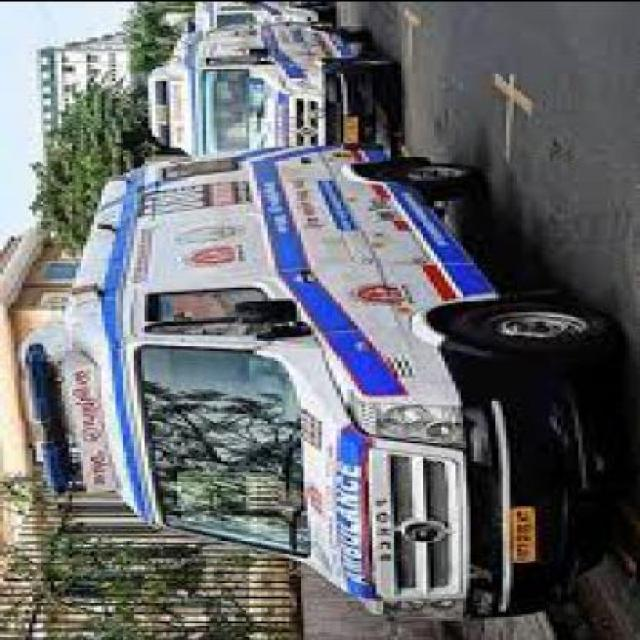Ambulance: (76, 158, 636, 633), (145, 21, 383, 162)
